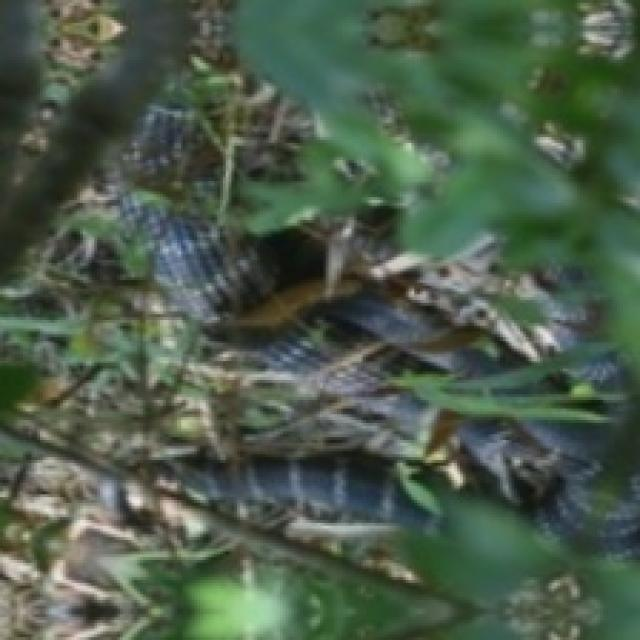king cobra: (60, 91, 637, 637)
